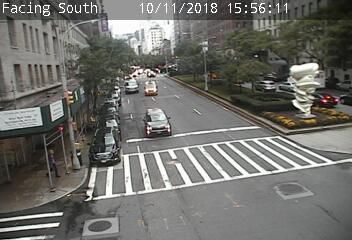car: (145, 108, 170, 136), (145, 81, 157, 95)
